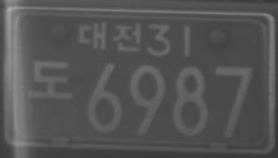1: (176, 23, 197, 58)
3: (145, 21, 172, 58)
6: (85, 61, 124, 137)
7: (213, 62, 254, 139)
8: (171, 63, 210, 138)
9: (128, 62, 167, 136)
대전_O: (76, 20, 144, 54)
도: (27, 60, 74, 101)
